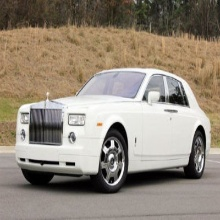no damage: (16, 68, 212, 191)
